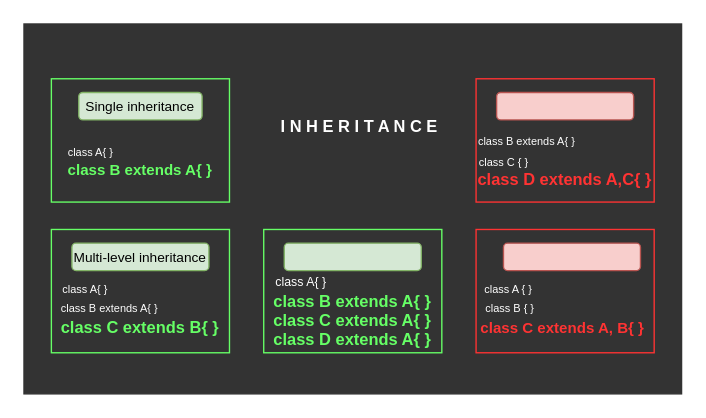
The diagram is 706 pixels wide and 418 high, and some of its shapes have lost their labels. The centre of each missing label's shape, as x and y in pixels:
"Hierarchal inheritance" goes at point (352, 256).
"Hybrid inheritance" goes at point (564, 105).
"Multiple inheritance" goes at point (571, 256).
